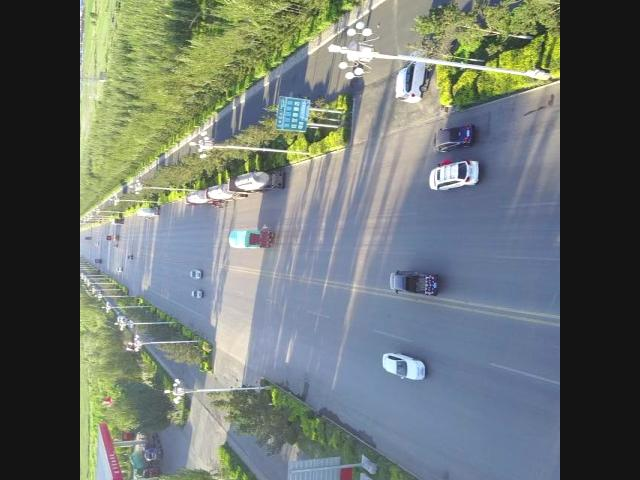out of water: (436, 158, 459, 166), (213, 200, 227, 203), (214, 204, 227, 207), (213, 205, 226, 208), (145, 216, 153, 219), (114, 313, 120, 315), (116, 311, 120, 313)
